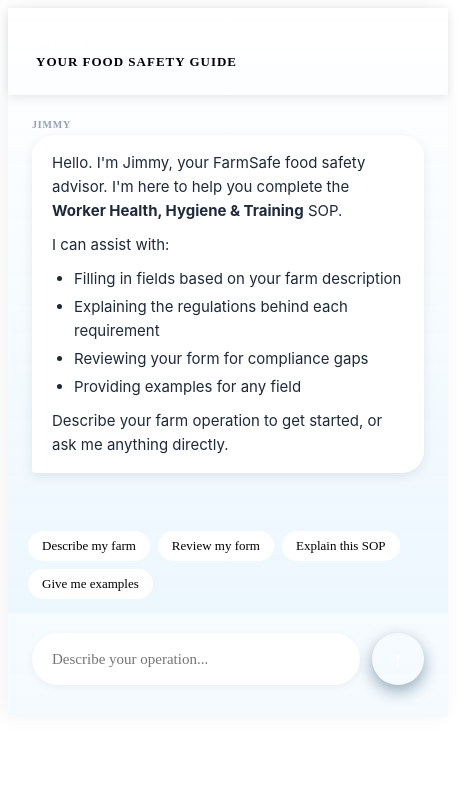
Scenario: ChatPanel › shows an error in place of the answer
The width and height of the screenshot is (467, 810).
Type "Hello" into the field at (196, 659), box 32,633 -> 360,685
Then press Enter
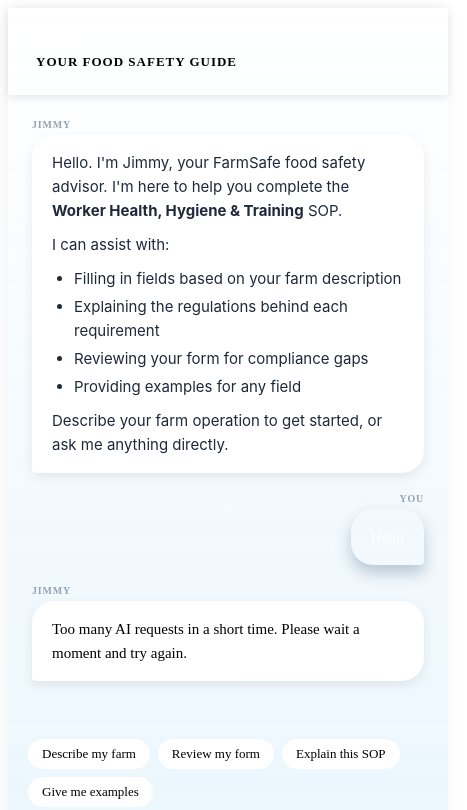
Check: the message shows "wait a moment", box 52,621 -> 363,661
